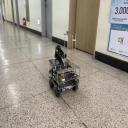cart: (48, 58, 81, 98)
